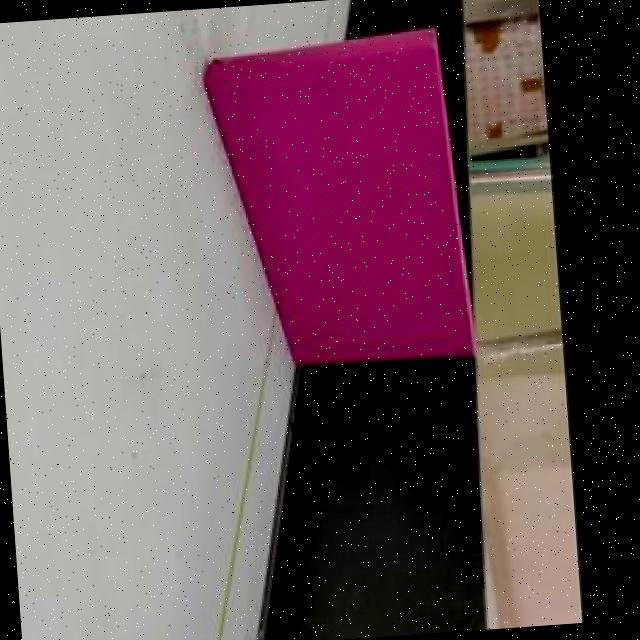xparking: (224, 48, 461, 364)
